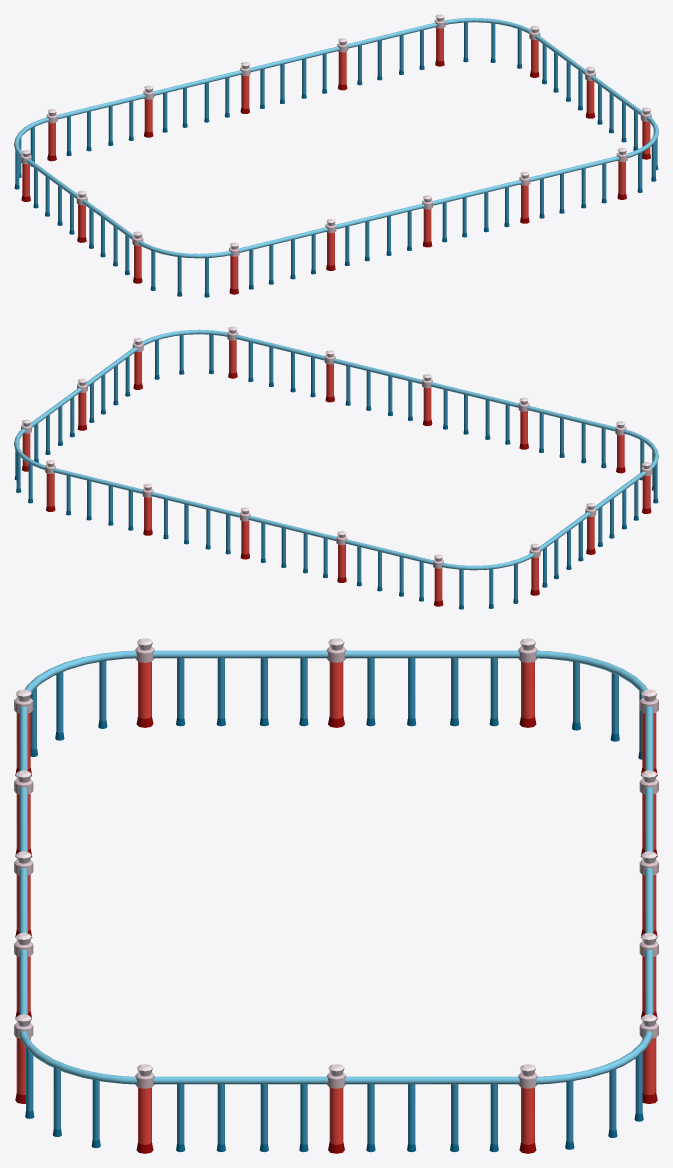
The model's file is fence_sharks.fbx.
3 renders of one model, top to bottom at view 1: azimuth 30°, elevation 25°; view 2: azimuth 150°, elevation 25°; view 3: azimuth 270°, elevation 25°, orthographic. The views are drawn at different scales.
Visible parts, largest first — view 1: fence_sharks; view 2: fence_sharks; view 3: fence_sharks.
Boxes of the visible parts, box(x1,y1,x2,y2) form: fence_sharks: box(14, 14, 658, 297); fence_sharks: box(14, 326, 658, 609); fence_sharks: box(14, 638, 658, 1153).
Bounding box in the file's own units: 821 × 74.33 × 515.
